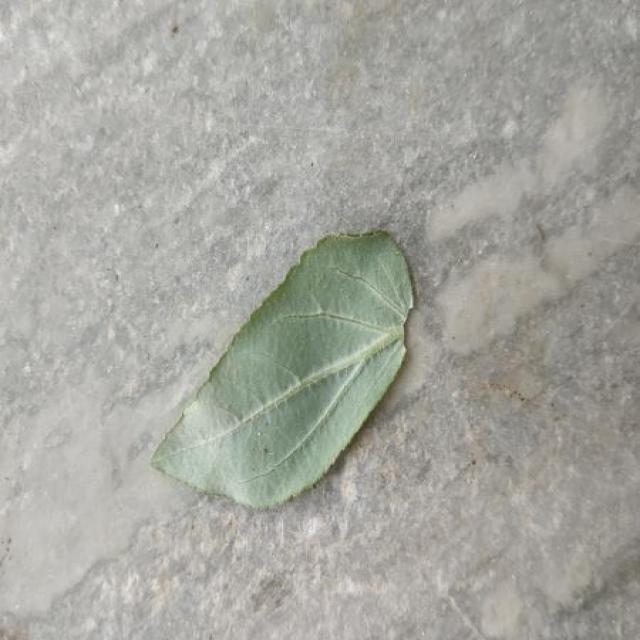Astma_weed: (152, 231, 413, 508)
defectetedAstma_weed: (152, 231, 413, 508)
